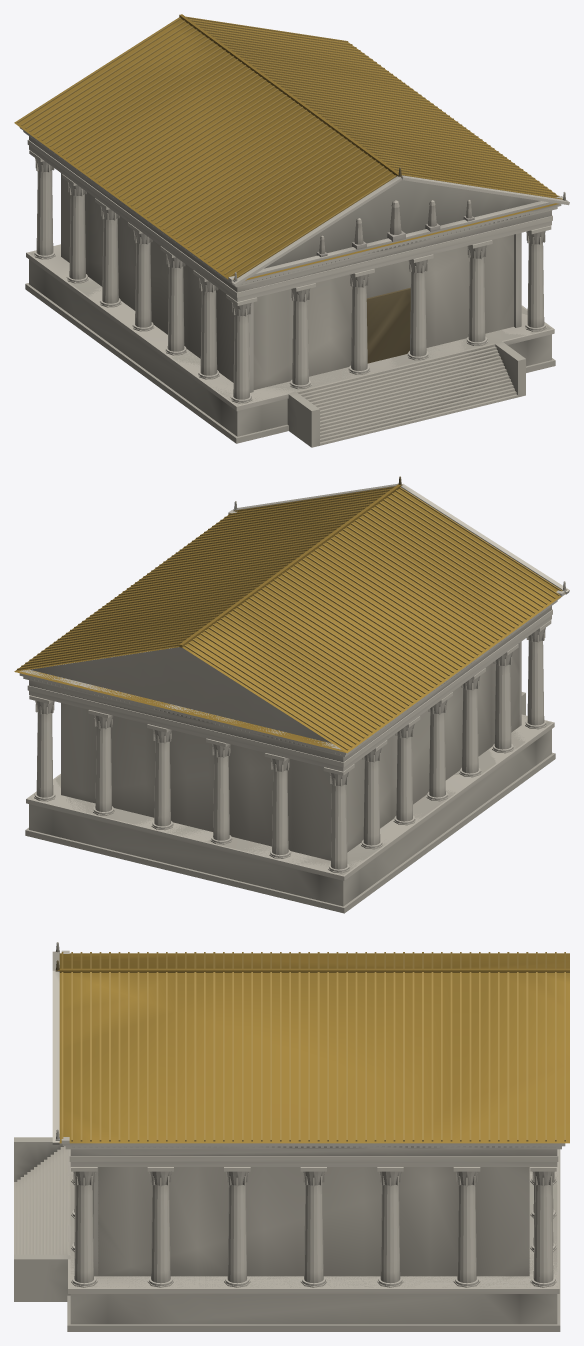
Rendered from temple-of-jupiter.glb.
3 views of the same model, one above another, from view 1: azimuth 30°, elevation 25°; view 2: azimuth 150°, elevation 25°; view 3: azimuth 270°, elevation 25° (orthographic). The views are drawn at different scales.
Visible parts, largest first — view 1: p2_roof, p1_columns, p0_podium; view 2: p2_roof, p1_columns, p0_podium; view 3: p2_roof, p1_columns, p0_podium.
Boxes of the visible parts, box(x1,y1,x2,y2) form: p2_roof: box(14, 14, 569, 301); p1_columns: box(29, 150, 551, 403); p0_podium: box(25, 244, 555, 447); p2_roof: box(14, 476, 569, 771); p1_columns: box(29, 620, 551, 873); p0_podium: box(25, 692, 555, 913); p2_roof: box(52, 942, 569, 1166); p1_columns: box(71, 1167, 556, 1287); p0_podium: box(14, 1137, 560, 1331).
Size of the model in its own units: 57.56 by 39.47 by 70.82.
